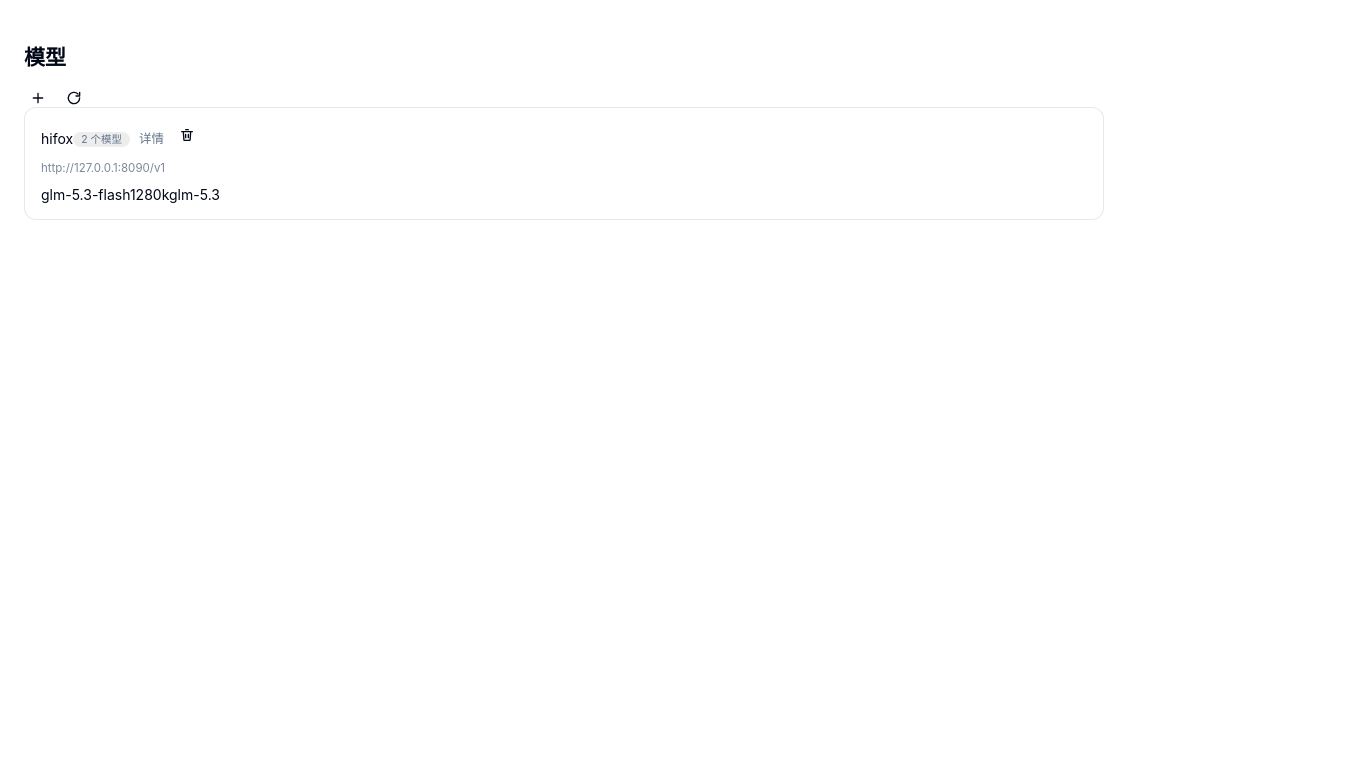
Test: ModelPage › tests several selected models from one provider
Check: the text "hifox" is shown, box [41,129,73,146]
Click the button "详情": x=152, y=138 [130,124,173,152]
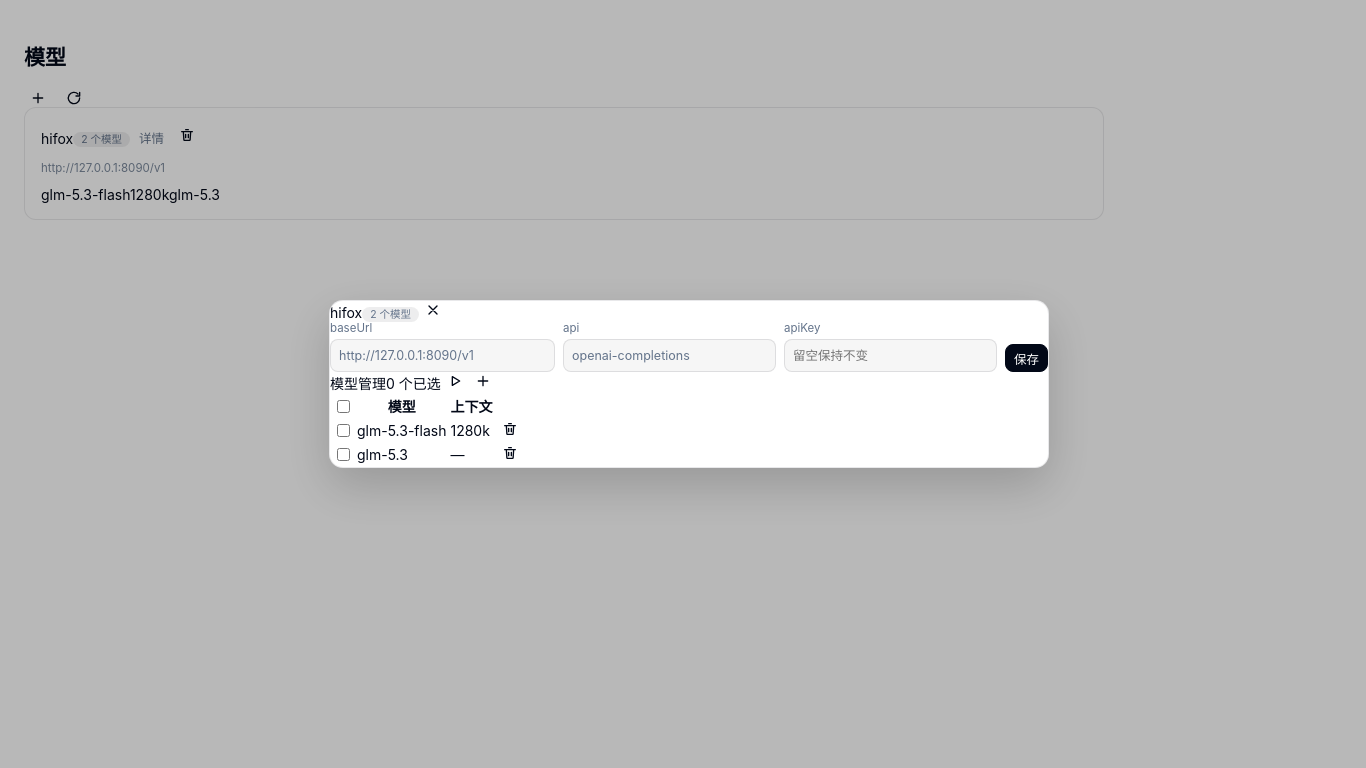
Click the checkbox named "全选模型": x=344, y=406 [337,400,350,412]
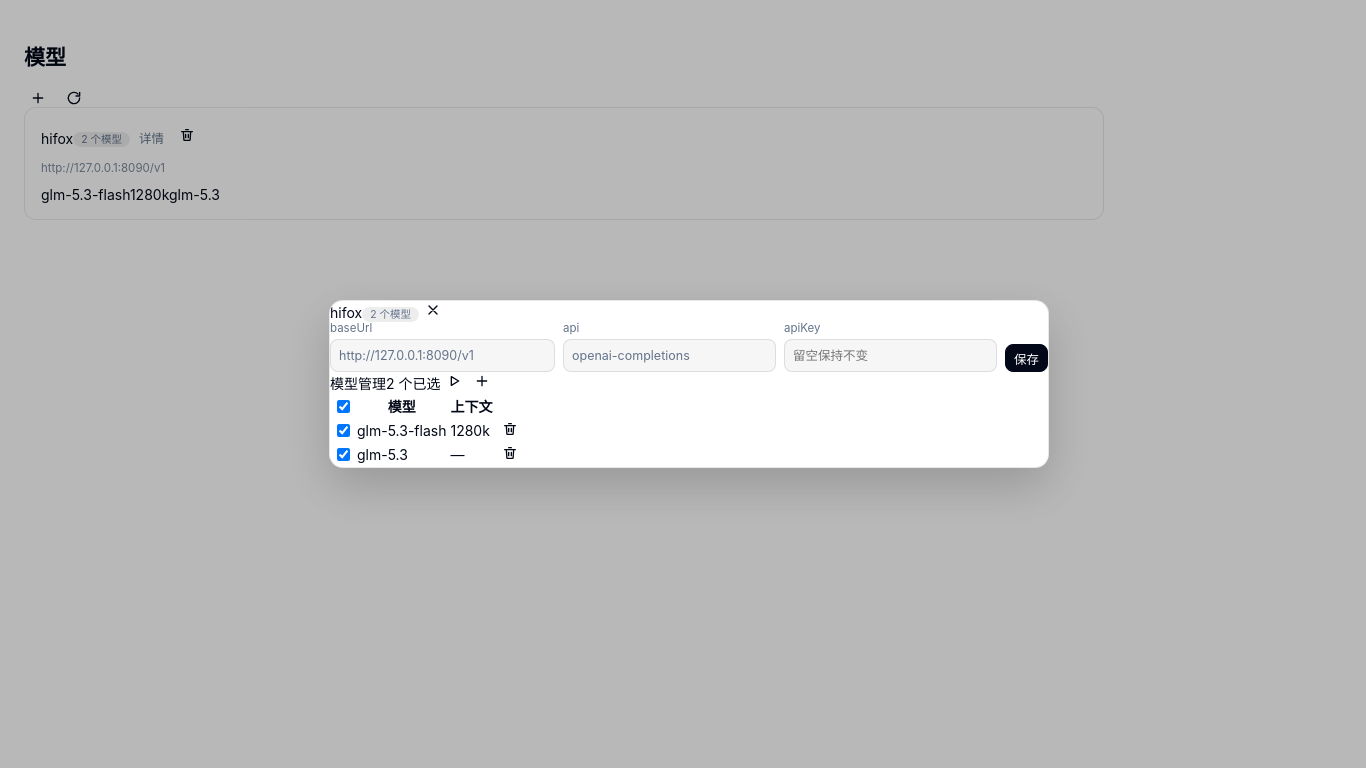
Click the button named "测试选中的模型": x=454, y=381 [440,372,468,390]
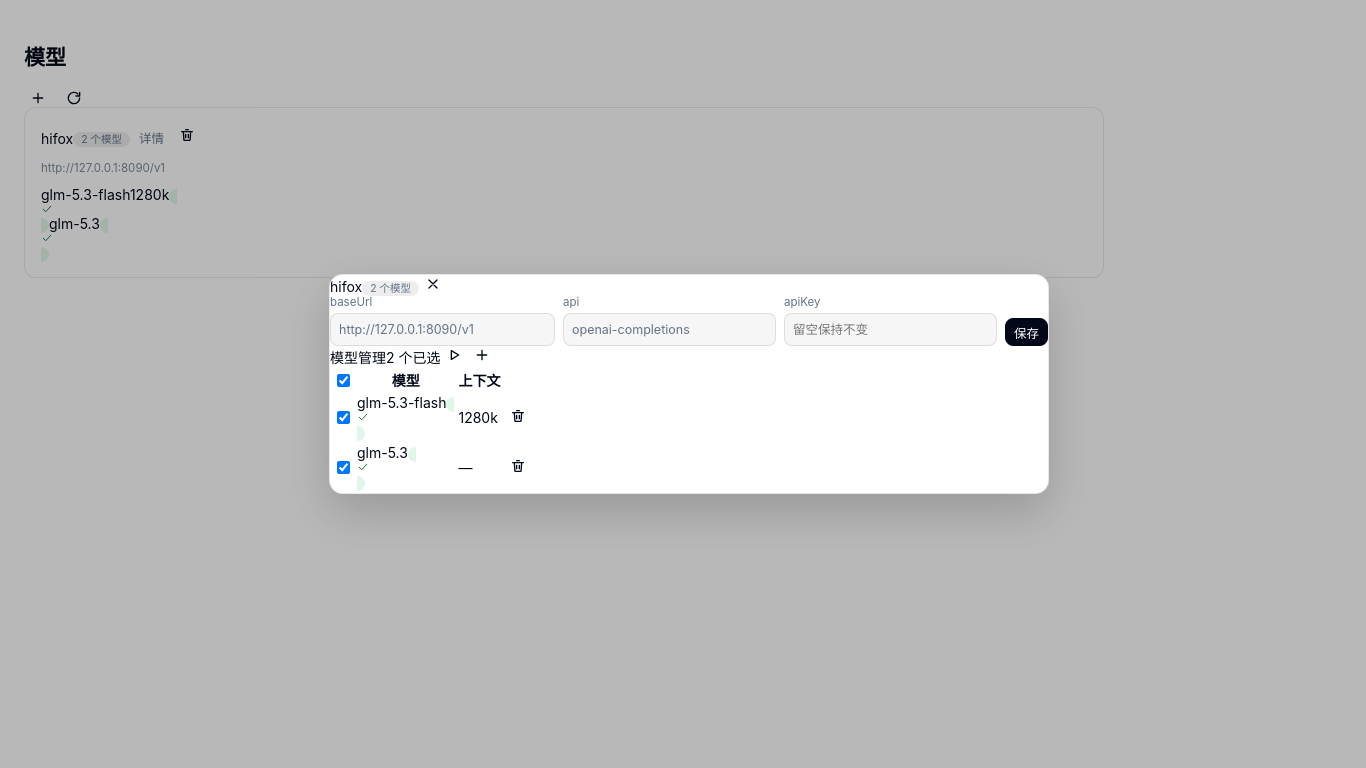
Check: the number of messages named "可用" is 2, box [357,397,454,441]; [357,447,454,491]
Check: the number of messages named "可用" is 4, box [41,189,1087,233]; [41,218,1087,262]; [357,397,454,441]; [357,447,454,491]
Note: Closing the dialog leaves the results on the provider card.
Click the button named "关闭": x=433, y=284 [419,275,447,293]
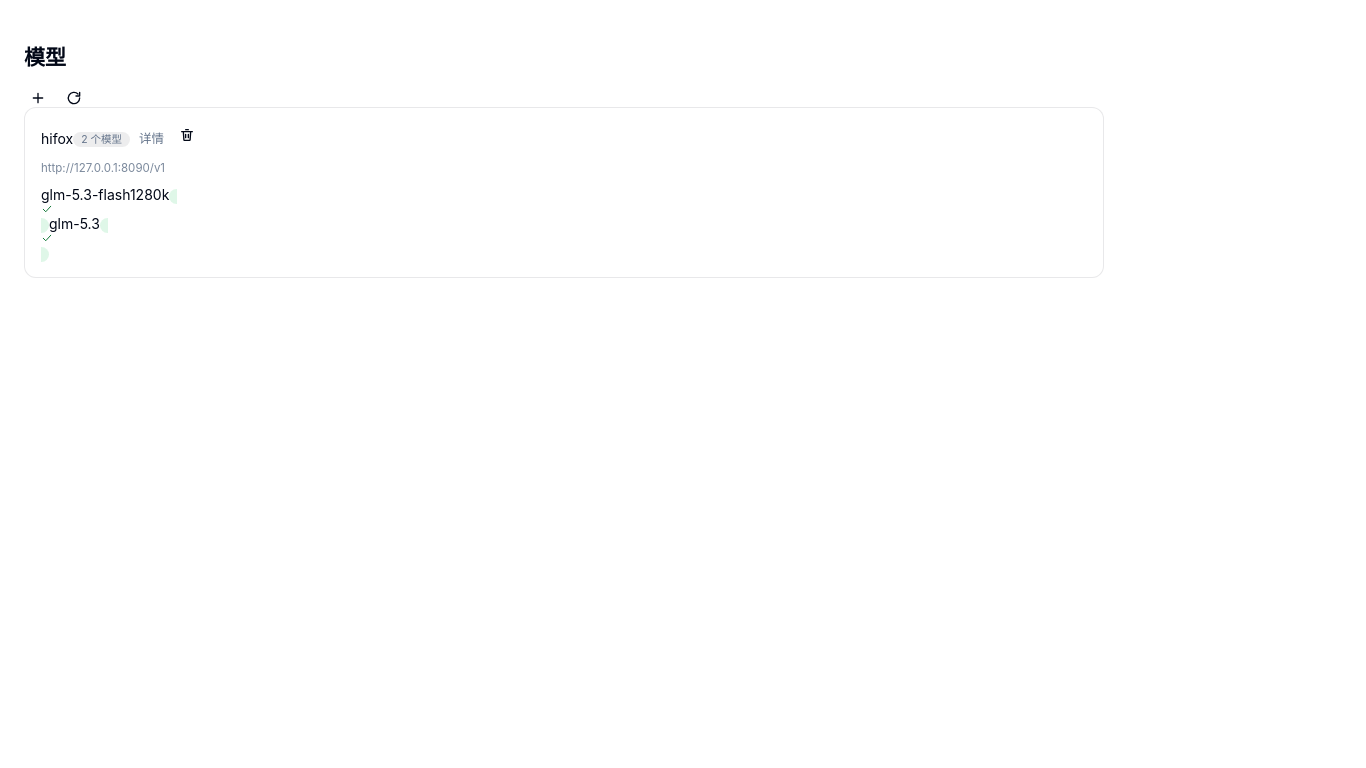
Check: the number of messages named "可用" is 2, box [41,189,1087,233]; [41,218,1087,262]
Click the button "详情": x=152, y=138 [130,124,173,152]
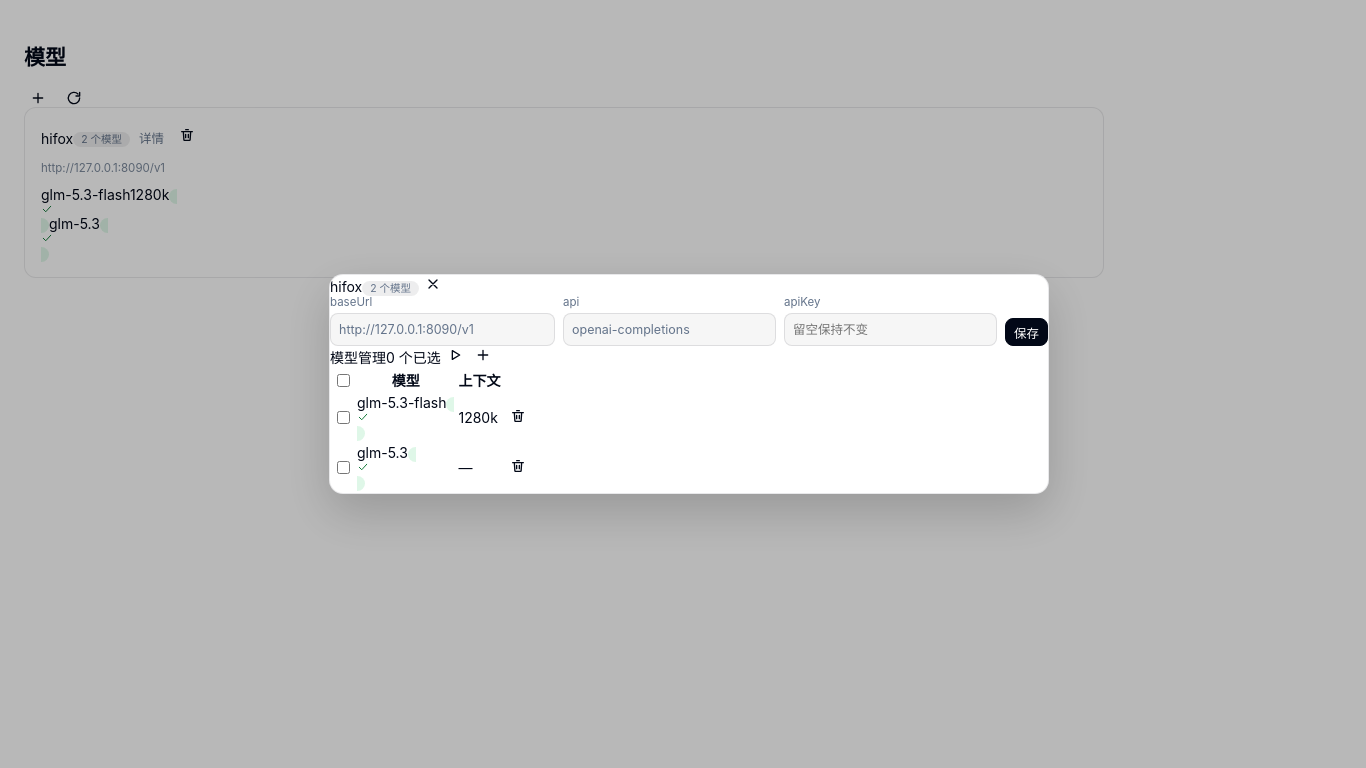
Check: the number of messages named "可用" is 2, box [357,397,454,441]; [357,447,454,491]
